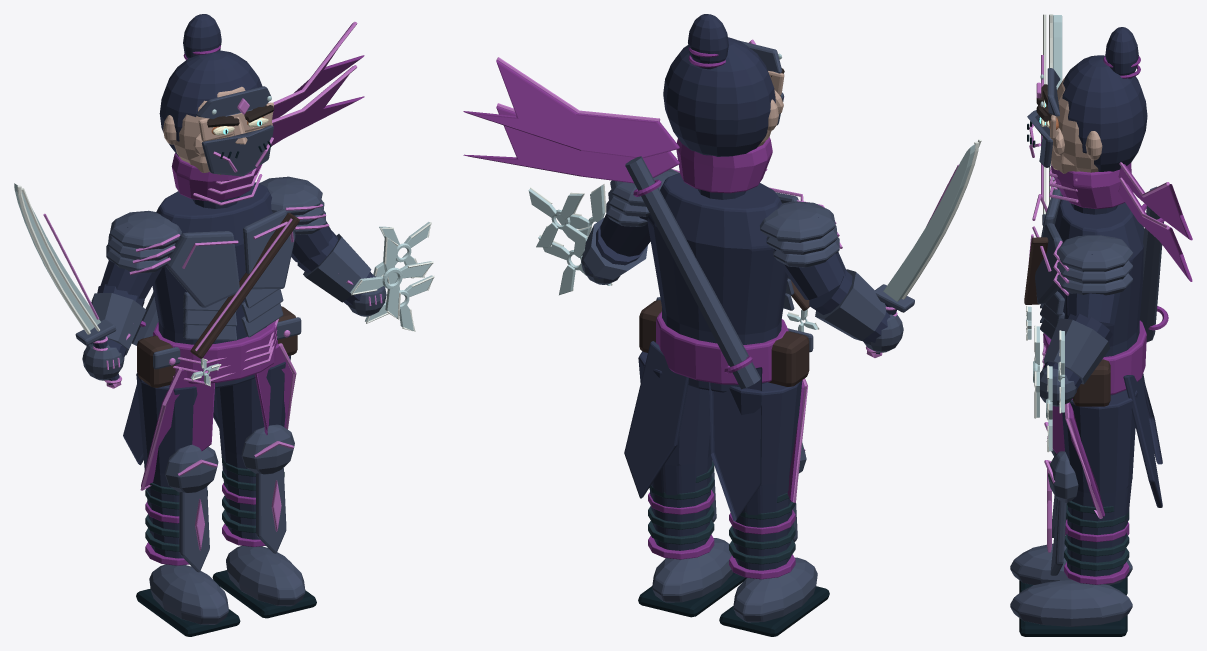
File: ninja.glb
The picture shows the model from 3 angles, left to right: view 1: azimuth 30°, elevation 25°; view 2: azimuth 150°, elevation 25°; view 3: azimuth 270°, elevation 25°; orthographic projection. The views are drawn at different scales.
Visible parts, largest first — view 1: Ninja — obsidian plates mesh.002, Ninja — obsidian plates mesh.001, Ninja — obsidian plates mesh, Ninja — midnight cloth mesh.002, Ninja — violet silk mesh.002, Ninja — obsidian plates mesh.003, Ninja — midnight cloth mesh.005, Ninja — obsidian plates mesh.004, Ninja — midnight cloth mesh.001, Ninja — violet silk mesh.003, Ninja — midnight cloth mesh, Weathered dark leather mesh (+18 smaller); view 2: Ninja — midnight cloth mesh.002, Ninja — violet silk mesh.003, Ninja — midnight cloth mesh.005, Ninja — obsidian plates mesh.003, Ninja — midnight cloth mesh, Ninja — obsidian plates mesh.002, Ninja — midnight cloth mesh.001, Ninja — violet silk mesh.002, Ninja — obsidian plates mesh, Ninja — obsidian plates mesh.001, Moon silver mesh.002, Ninja — obsidian plates mesh.004 (+11 smaller); view 3: Ninja — midnight cloth mesh.005, Ninja — midnight cloth mesh.001, Ninja — obsidian plates mesh.004, Ninja — midnight cloth mesh.002, Ninja — obsidian plates mesh.001, Ninja — violet silk mesh.003, Ninja — obsidian plates mesh.002, Ninja — violet silk mesh.002, Ninja — cool face mesh, Weathered dark leather mesh, Ninja — midnight cloth mesh.004, Captain — shadow fold mesh.001 (+13 smaller).
Part boxes in pixels (x1=…): Ninja — obsidian plates mesh.002: x1=132, y1=209, x2=301, y2=369; Ninja — obsidian plates mesh.001: x1=226, y1=424, x2=305, y2=606; Ninja — obsidian plates mesh: x1=149, y1=444, x2=228, y2=624; Ninja — midnight cloth mesh.002: x1=123, y1=182, x2=272, y2=465; Ninja — violet silk mesh.002: x1=140, y1=321, x2=292, y2=486; Ninja — obsidian plates mesh.003: x1=82, y1=210, x2=181, y2=380; Ninja — midnight cloth mesh.005: x1=159, y1=14, x2=262, y2=208; Ninja — obsidian plates mesh.004: x1=259, y1=176, x2=386, y2=316; Ninja — midnight cloth mesh.001: x1=215, y1=355, x2=290, y2=539; Ninja — violet silk mesh.003: x1=171, y1=22, x2=364, y2=201; Ninja — midnight cloth mesh: x1=136, y1=373, x2=197, y2=558; Weathered dark leather mesh: x1=137, y1=213, x2=299, y2=387; Ninja — midnight cloth mesh.002: x1=624, y1=173, x2=787, y2=521; Ninja — violet silk mesh.003: x1=463, y1=47, x2=772, y2=193; Ninja — midnight cloth mesh.005: x1=663, y1=14, x2=775, y2=199; Ninja — obsidian plates mesh.003: x1=760, y1=201, x2=903, y2=352; Ninja — midnight cloth mesh: x1=729, y1=380, x2=802, y2=570; Ninja — obsidian plates mesh.002: x1=625, y1=156, x2=813, y2=389; Ninja — midnight cloth mesh.001: x1=638, y1=351, x2=712, y2=550; Ninja — violet silk mesh.002: x1=633, y1=179, x2=804, y2=501; Ninja — obsidian plates mesh: x1=733, y1=442, x2=817, y2=622; Ninja — obsidian plates mesh.001: x1=652, y1=460, x2=732, y2=602; Moon silver mesh.002: x1=528, y1=185, x2=610, y2=295; Ninja — obsidian plates mesh.004: x1=581, y1=169, x2=679, y2=284; Ninja — midnight cloth mesh.005: x1=1062, y1=27, x2=1147, y2=214; Ninja — midnight cloth mesh.001: x1=1062, y1=390, x2=1137, y2=576; Ninja — obsidian plates mesh.004: x1=1040, y1=235, x2=1133, y2=406; Ninja — midnight cloth mesh.002: x1=1055, y1=196, x2=1162, y2=507; Ninja — obsidian plates mesh.001: x1=1010, y1=451, x2=1132, y2=626; Ninja — violet silk mesh.003: x1=1051, y1=56, x2=1192, y2=281; Ninja — obsidian plates mesh.002: x1=1035, y1=186, x2=1163, y2=342; Ninja — violet silk mesh.002: x1=1043, y1=203, x2=1168, y2=516; Ninja — cool face mesh: x1=1035, y1=78, x2=1102, y2=173; Weathered dark leather mesh: x1=1024, y1=237, x2=1110, y2=406; Ninja — midnight cloth mesh.004: x1=1043, y1=254, x2=1120, y2=390; Captain — shadow fold mesh.001: x1=1064, y1=501, x2=1129, y2=570.
Bounding box in the file's own units: 1.8 × 2.37 × 0.6743.
